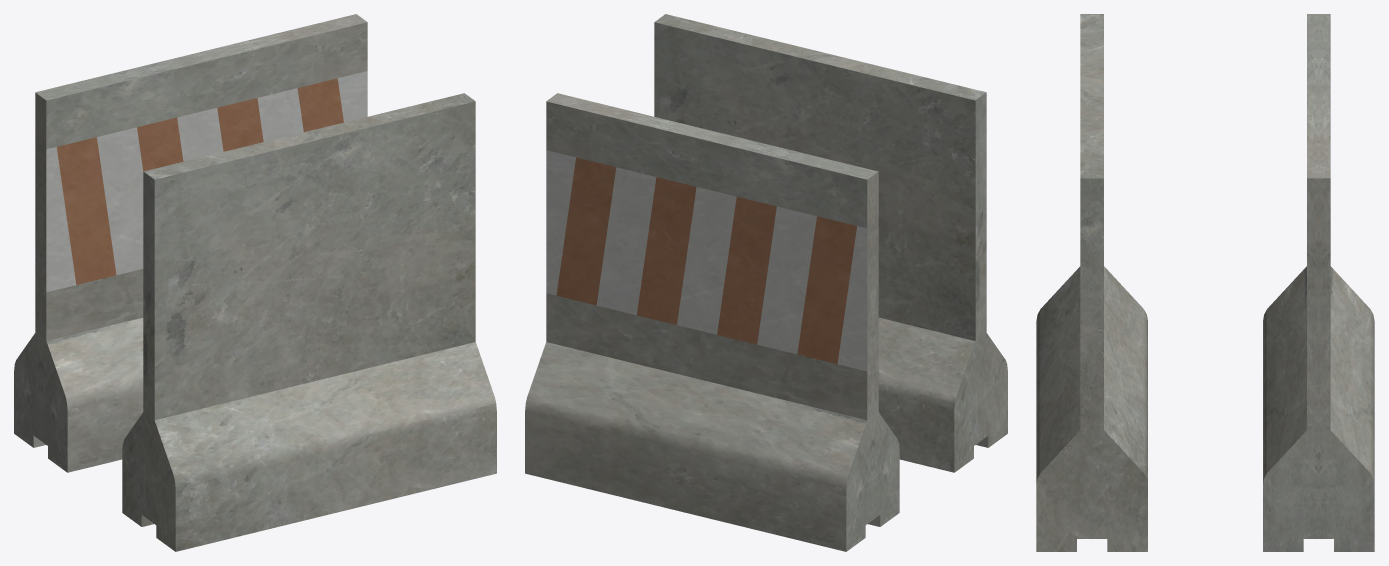
Rendered from ConcreteBarriers.fbx.
3 renders of one model, left to right at view 1: azimuth 30°, elevation 25°; view 2: azimuth 150°, elevation 25°; view 3: azimuth 270°, elevation 25°, orthographic. The views are drawn at different scales.
Visible parts, largest first — view 1: SimpleConcreteBarrier, ArrowConcreteBarrier; view 2: ArrowConcreteBarrier, SimpleConcreteBarrier; view 3: SimpleConcreteBarrier, ArrowConcreteBarrier.
Part boxes in pixels (<box>): SimpleConcreteBarrier: <box>122,93,496,551</box>; ArrowConcreteBarrier: <box>14,14,367,472</box>; ArrowConcreteBarrier: <box>525,93,899,551</box>; SimpleConcreteBarrier: <box>654,14,1007,472</box>; SimpleConcreteBarrier: <box>1036,14,1147,551</box>; ArrowConcreteBarrier: <box>1263,14,1374,551</box>.
Bounding box in the file's own units: 1011 × 1074 × 881.
